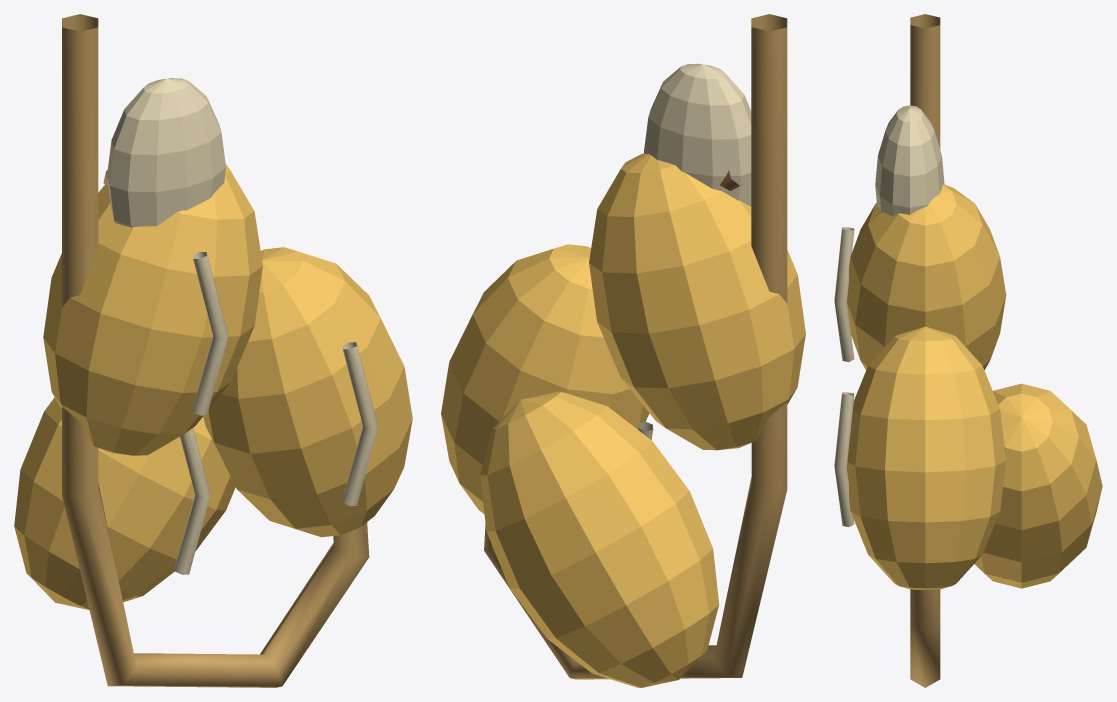
File: bait_grain.glb
3 views of the same model, side by side, from view 1: azimuth 30°, elevation 25°; view 2: azimuth 150°, elevation 25°; view 3: azimuth 270°, elevation 25° (orthographic). The views are drawn at different scales.
Visible parts, largest first — view 1: Wheat_kernel, Wheat_kernel.001, Hook, Wheat_kernel.002, Husk_tip, Kernel_crease, Kernel_crease.001, Kernel_crease.002; view 2: Wheat_kernel.002, Wheat_kernel, Wheat_kernel.001, Hook, Husk_tip; view 3: Wheat_kernel.001, Wheat_kernel, Wheat_kernel.002, Hook, Husk_tip, Kernel_crease, Kernel_crease.001.
Part boxes in pixels (x1,y1,x2,y2): Wheat_kernel: (43,164,262,455); Wheat_kernel.001: (203,247,412,537); Hook: (62,14,369,687); Wheat_kernel.002: (14,397,235,609); Husk_tip: (107,78,225,227); Kernel_crease: (192,252,228,415); Kernel_crease.001: (342,342,377,506); Kernel_crease.002: (174,428,210,574); Wheat_kernel.002: (480,391,719,687); Wheat_kernel: (589,153,805,450); Wheat_kernel.001: (441,244,649,514); Hook: (484,14,787,679); Husk_tip: (644,63,751,205); Wheat_kernel.001: (846,326,1006,589); Wheat_kernel: (846,184,1006,369); Wheat_kernel.002: (974,383,1102,588); Hook: (910,14,940,687); Husk_tip: (875,105,944,216); Kernel_crease: (834,227,854,362); Kernel_crease.001: (834,392,854,527).
Bounding box in the file's own units: 0.0855 × 0.1683 × 0.0696.
